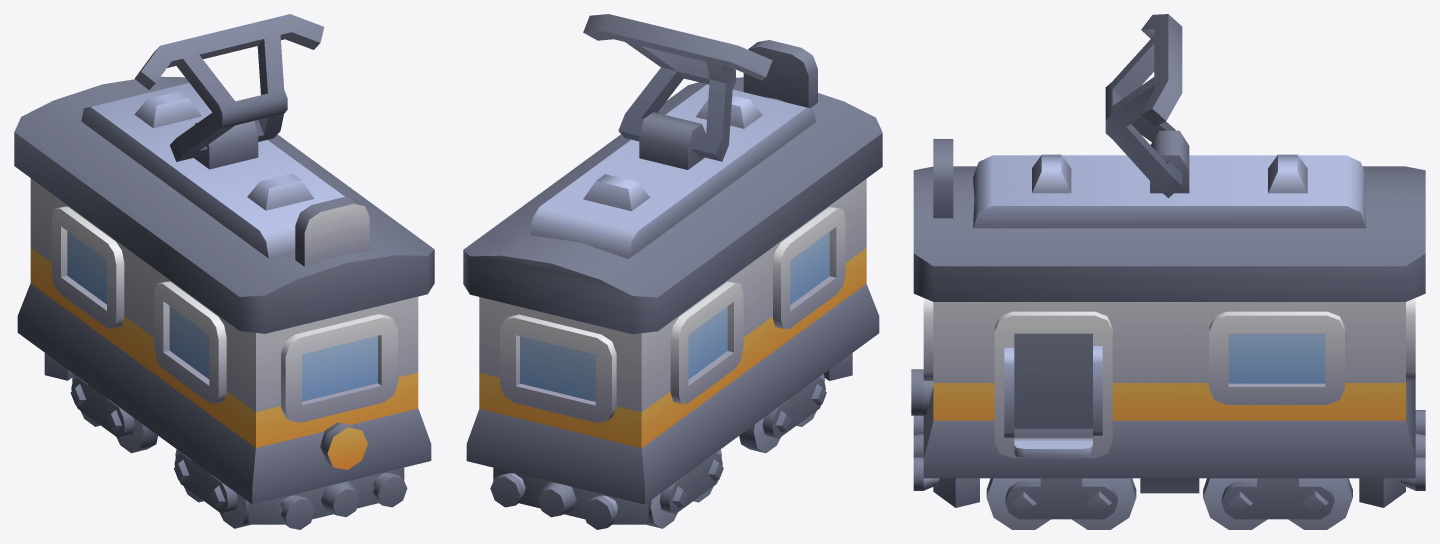
Rendered from train-tram-classic.glb.
3 views of the same model, side by side, from view 1: azimuth 30°, elevation 25°; view 2: azimuth 150°, elevation 25°; view 3: azimuth 270°, elevation 25° (orthographic). The views are drawn at different scales.
Visible parts, largest first — view 1: train-tram-classic; view 2: train-tram-classic; view 3: train-tram-classic.
Part boxes in pixels (bbox=[...]): train-tram-classic: bbox=[14, 14, 434, 529]; train-tram-classic: bbox=[463, 14, 882, 529]; train-tram-classic: bbox=[911, 14, 1425, 529].
Size of the model in its own units: 1.25 by 2.52 by 2.61.
Materials: 1 (1 with a texture image).
